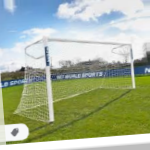goals: (16, 34, 137, 126)
